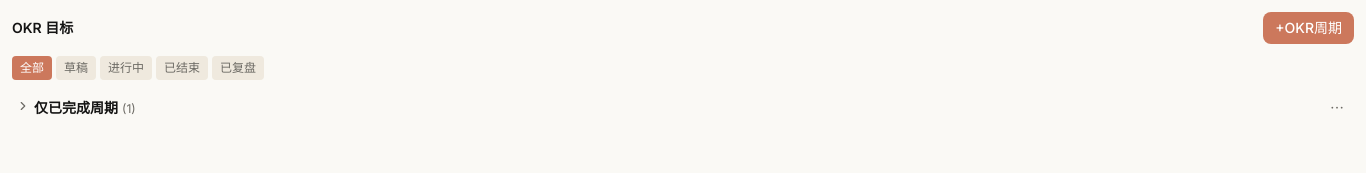
Scenario: [024.1] OKRDirectory 周期折叠 › 点击展开按钮可展开收起周期
This screenshot has width=1366, height=173.
expect the text "已完成目标" is not shown: met
Click the button with aria-label "展开周期" at (76, 108), box [16,98,136,118]
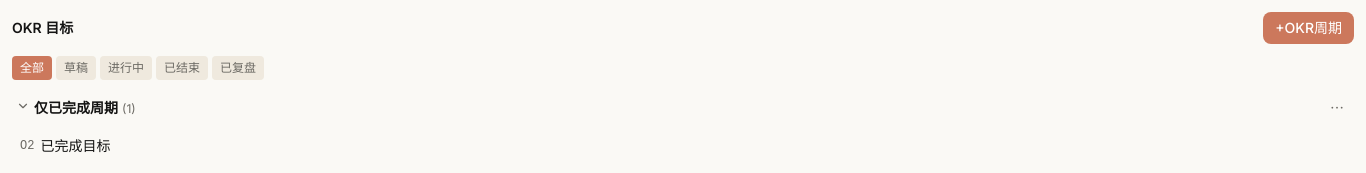
expect the text "已完成目标" is shown: met, box [40,136,110,156]
expect the button with aria-label "收起周期" is shown: met, box [16,98,136,118]
